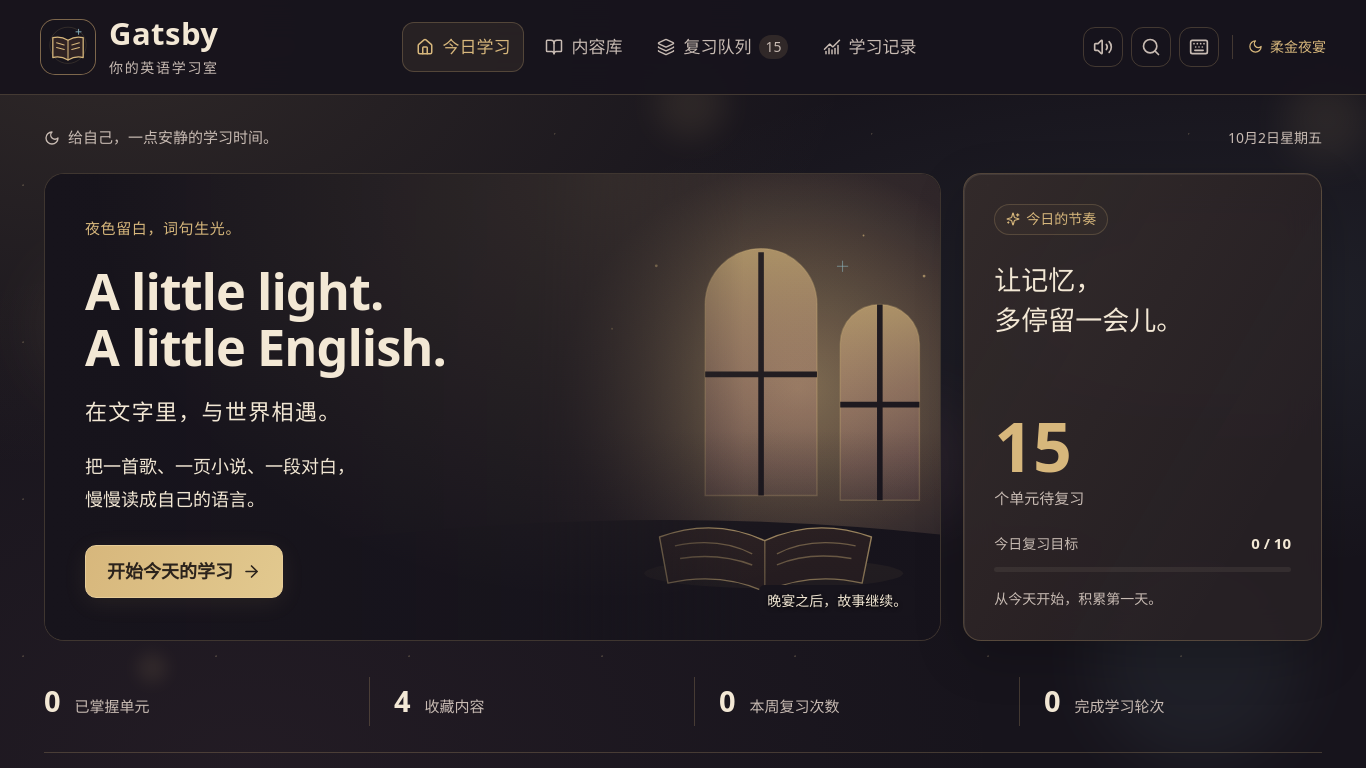
it: keeps the last valid in-memory data exportable after a failed reread
Click the button "开始今天的学习" at (184, 572), box [85,545,283,598]
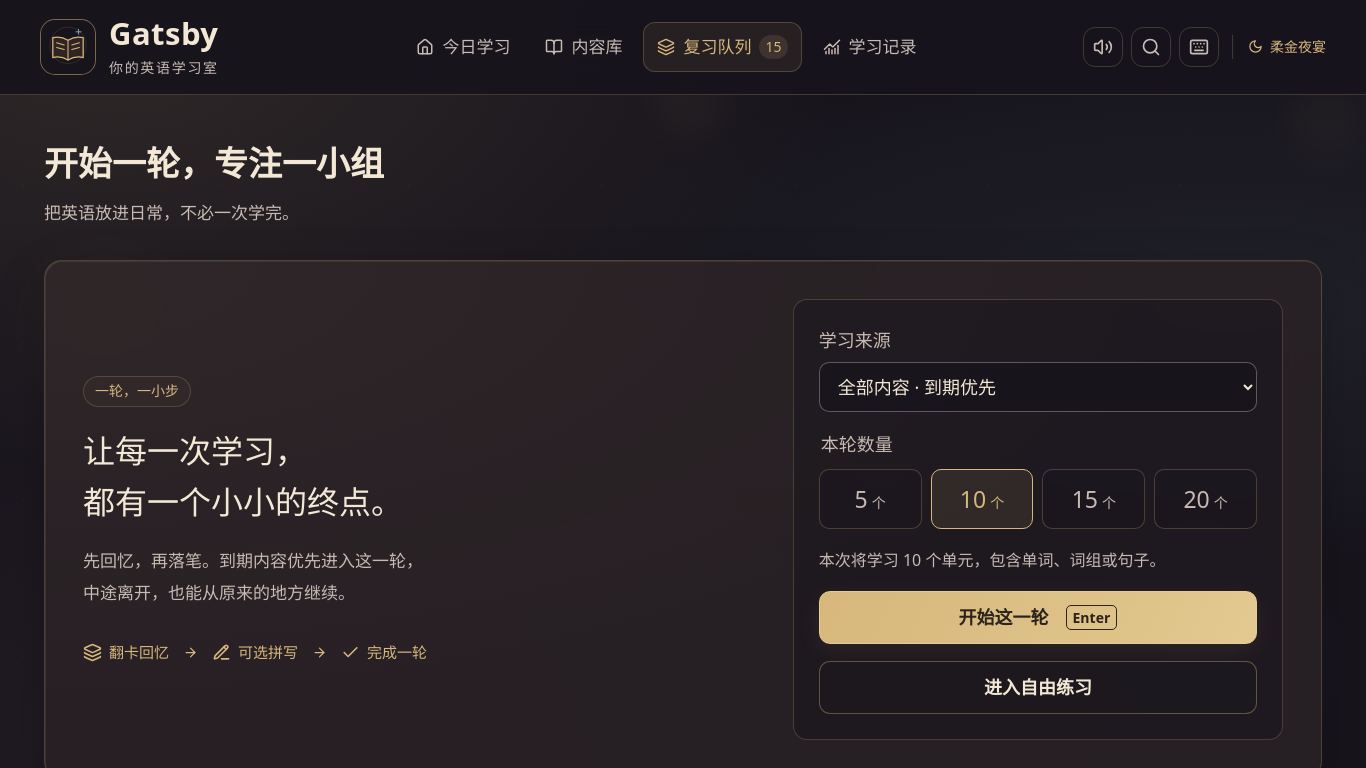
Click the button "开始这一轮 Enter" at (1038, 618), box [819,591,1257,644]
(page scrolled)
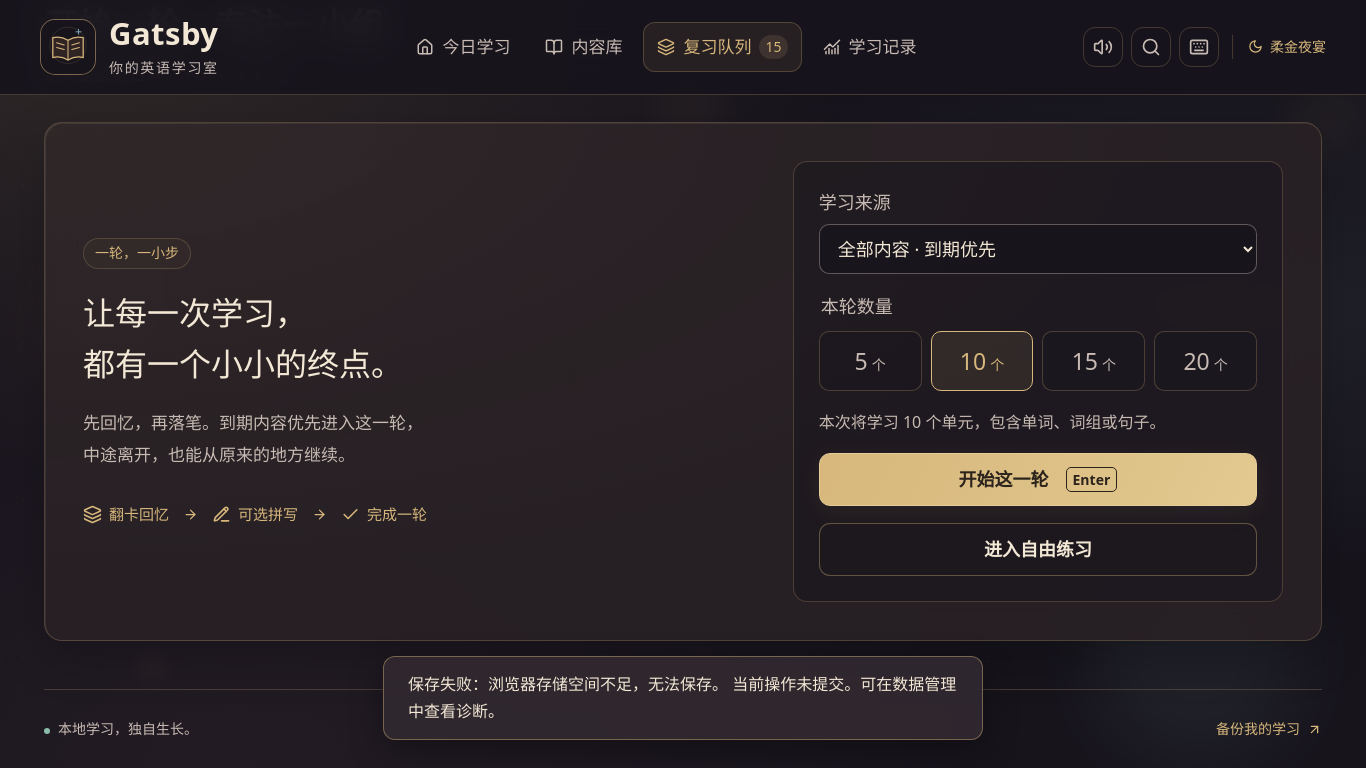
Click the button "备份我的学习" at (1269, 729), box [1216,713,1322,745]
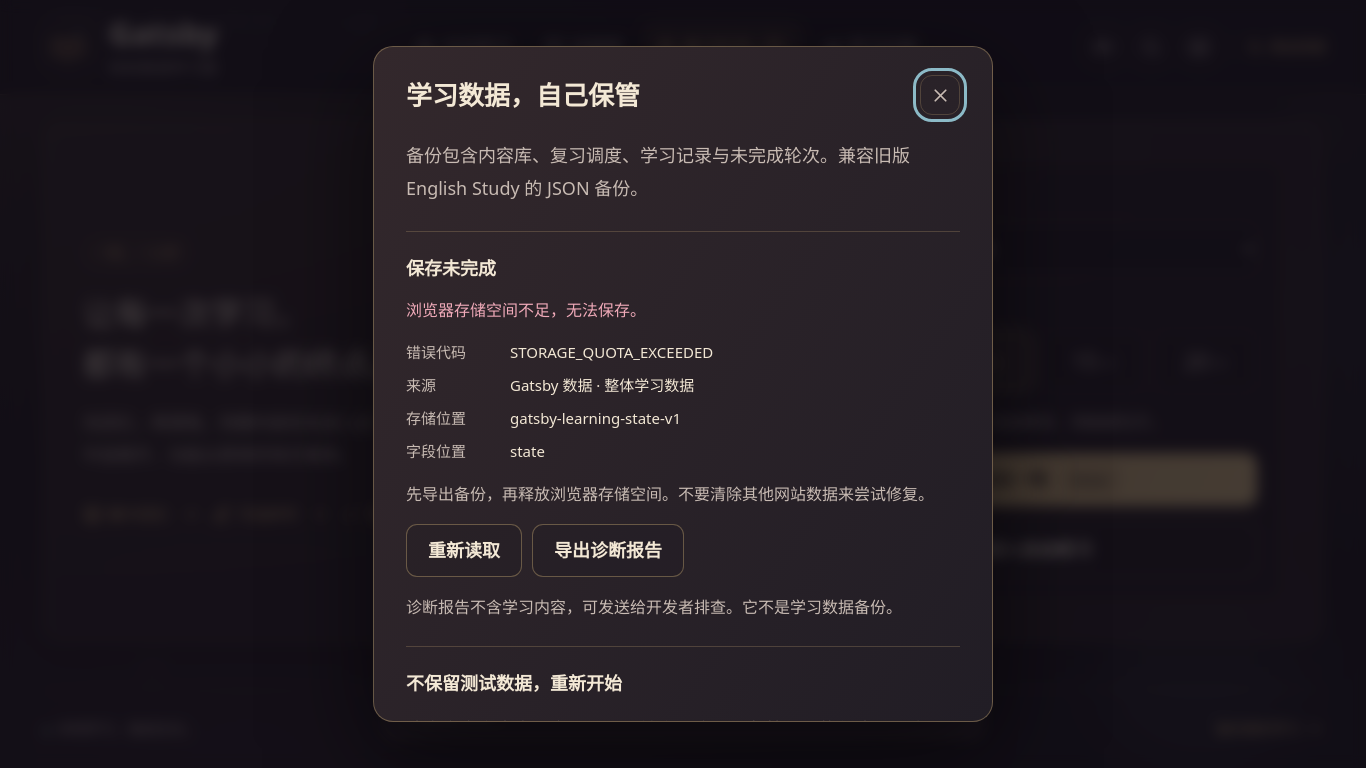
Click the button "重新读取" at (464, 551), box [406,524,522,578]
(page scrolled)
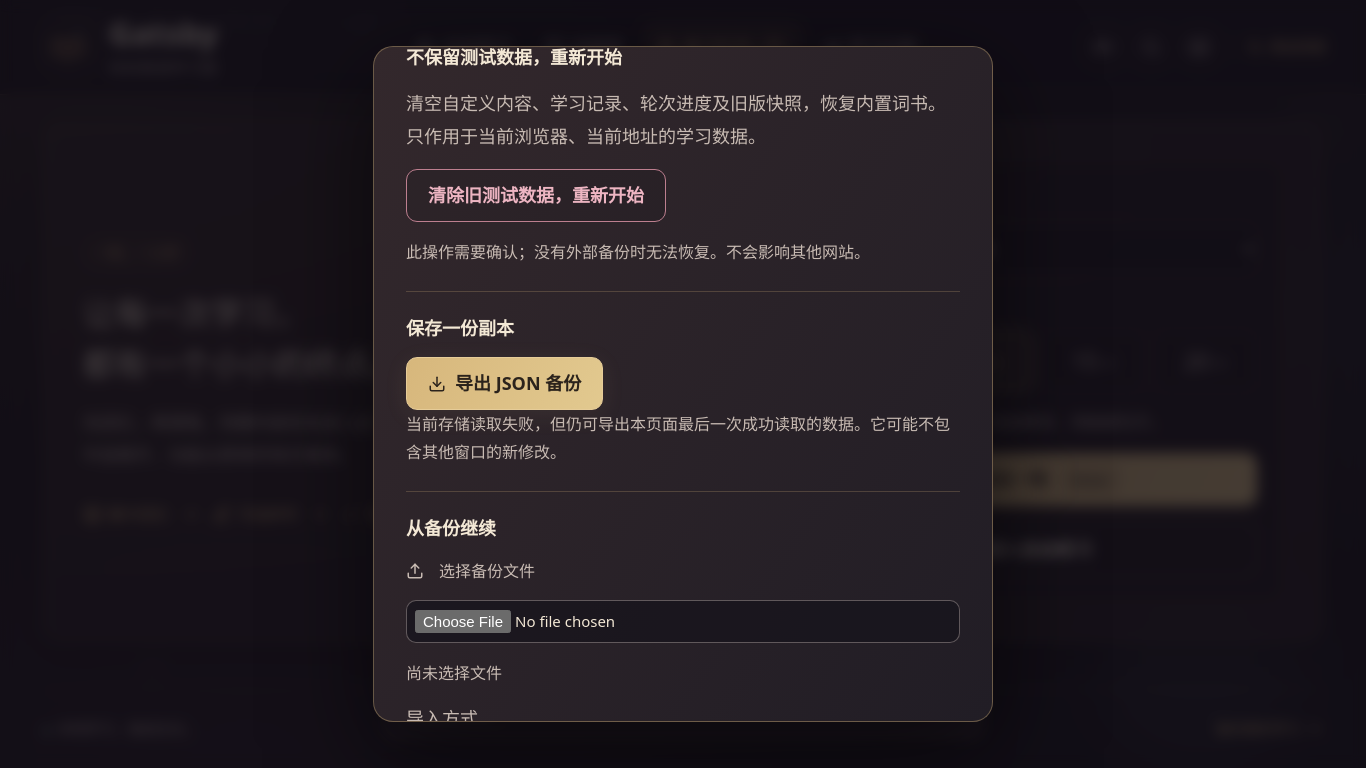
Now the button "导出 JSON 备份" is enabled, box [406,358,603,410]
